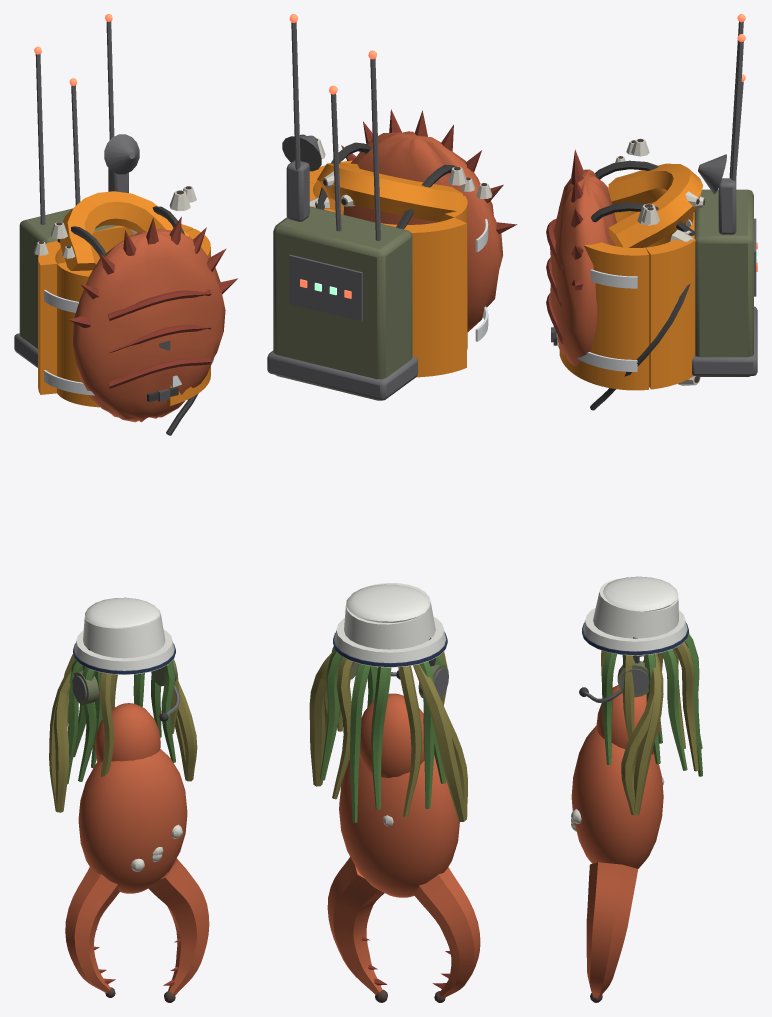
File: navalzombie.glb
3 views of the same model, side by side, from view 1: azimuth 30°, elevation 25°; view 2: azimuth 150°, elevation 25°; view 3: azimuth 270°, elevation 25° (orthographic). The views are drawn at different scales.
Visible parts, largest first — view 1: crab_shell, crab_claw, life_vest, seaweed, jammer_pack, sailor_cap, headset, barnacles; view 2: jammer_pack, crab_claw, life_vest, seaweed, crab_shell, sailor_cap, barnacles, headset; view 3: life_vest, jammer_pack, crab_claw, seaweed, crab_shell, sailor_cap, barnacles, headset.
Boxes of the visible parts, left/top/right/bottom form: crab_shell: left=68, top=216, right=237, bottom=422; crab_claw: left=65, top=703, right=209, bottom=1002; life_vest: left=38, top=191, right=214, bottom=407; seaweed: left=49, top=654, right=197, bottom=812; jammer_pack: left=14, top=14, right=198, bottom=435; sailor_cap: left=73, top=597, right=175, bottom=674; headset: left=72, top=649, right=179, bottom=721; barnacles: left=34, top=186, right=196, bottom=258; jammer_pack: left=267, top=14, right=455, bottom=400; crab_claw: left=327, top=693, right=480, bottom=1002; life_vest: left=309, top=160, right=488, bottom=377; seaweed: left=309, top=646, right=467, bottom=822; crab_shell: left=341, top=109, right=517, bottom=331; sailor_cap: left=333, top=583, right=447, bottom=667; barnacles: left=299, top=134, right=492, bottom=208; headset: left=350, top=637, right=448, bottom=698; life_vest: left=551, top=163, right=702, bottom=390; jammer_pack: left=590, top=14, right=757, bottom=410; crab_claw: left=571, top=685, right=664, bottom=1002; seaweed: left=601, top=633, right=702, bottom=815; crab_shell: left=546, top=149, right=616, bottom=365; sailor_cap: left=582, top=576, right=688, bottom=655; barnacles: left=615, top=138, right=704, bottom=385; headset: left=579, top=637, right=649, bottom=702.
Bounding box in the file's own units: 0.5953 × 3.03 × 0.598.
